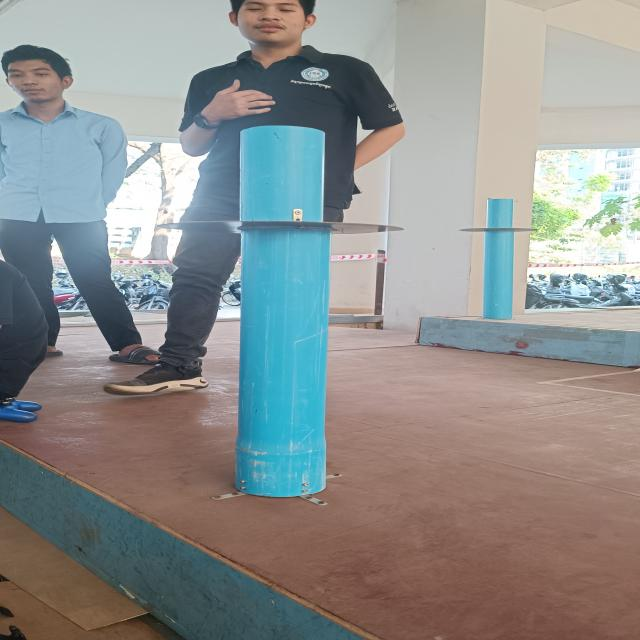pole: (152, 118, 427, 351)
